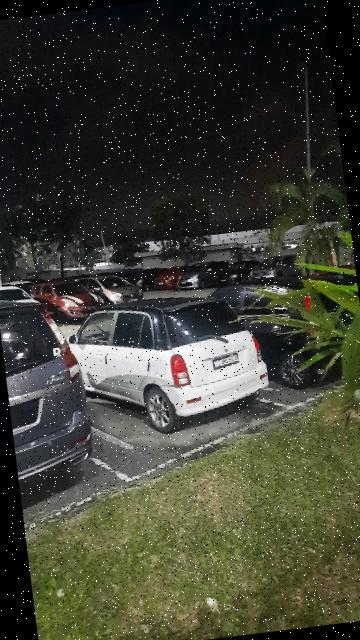License_Plate: (212, 351, 242, 371)
car: (64, 287, 278, 444), (197, 265, 360, 399), (1, 288, 97, 488)
